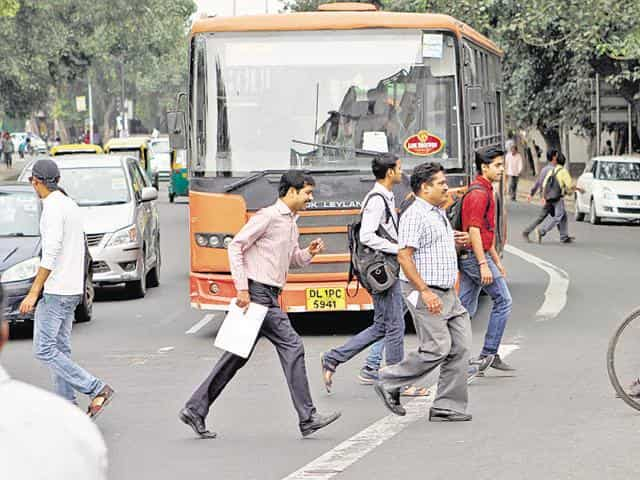pedestrian: (177, 153, 338, 450), (1, 154, 132, 442), (389, 154, 480, 432), (348, 136, 408, 406), (454, 145, 518, 381), (518, 141, 584, 253)
